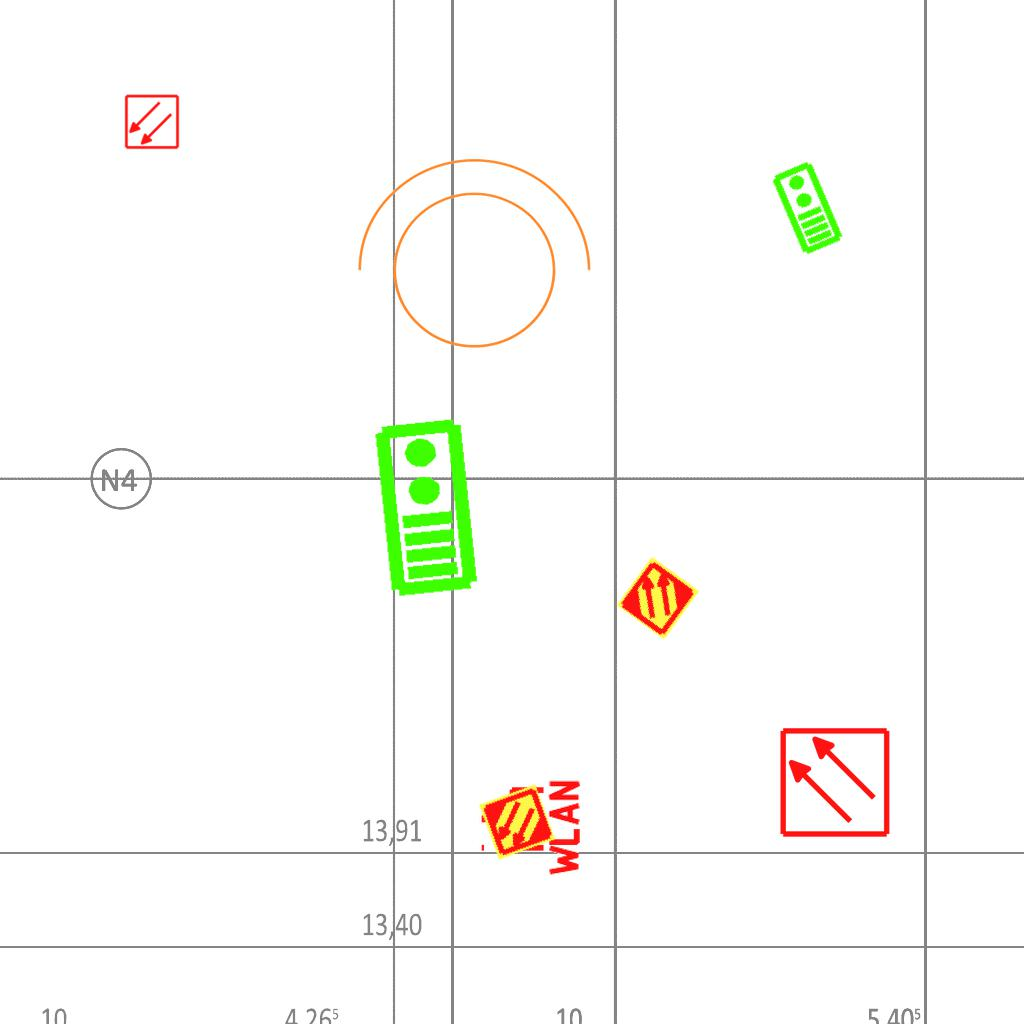ASR_Ansaugrauchmelder: (614, 554, 702, 642), (477, 782, 557, 862)
Gegensprechanlage_mit_Video: (368, 414, 481, 600), (767, 158, 846, 258)
RMO_Rauchmelder_optischer: (778, 726, 891, 839), (124, 94, 180, 150)
Scheinwerfer_fuer_Alarmbeleuchtung: (336, 148, 600, 373)
WLAN: (477, 776, 582, 880)
